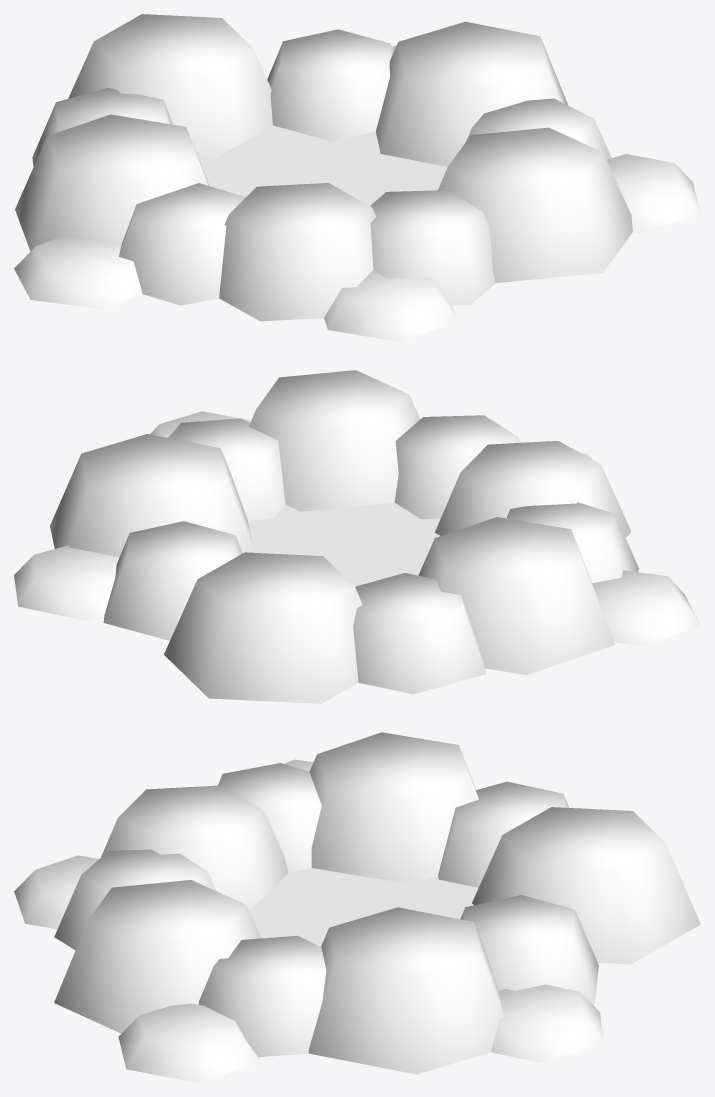
Rendered from hole.glb.
3 renders of one model, top to bottom at view 1: azimuth 30°, elevation 25°; view 2: azimuth 150°, elevation 25°; view 3: azimuth 270°, elevation 25°, orthographic. The views are drawn at different scales.
Parts seen in each view (by area): view 1: hole; view 2: hole; view 3: hole.
Part boxes in pixels (bbox=[...]): hole: bbox=[14, 14, 700, 341]; hole: bbox=[14, 370, 700, 703]; hole: bbox=[14, 732, 700, 1082].
Size of the model in its own units: 2.86 by 0.3541 by 2.7.
1 material, 1 textured.
